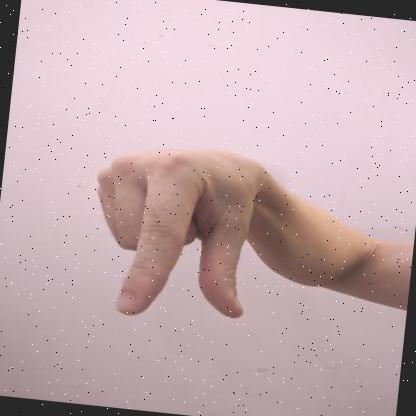Q: (97, 149, 264, 318)
